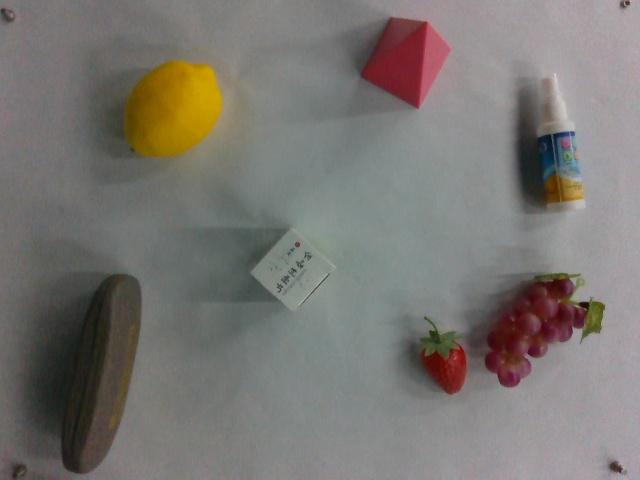carton: (246, 227, 333, 313)
detergent: (528, 72, 585, 219)
glassescase: (59, 276, 144, 473)
grape: (486, 275, 604, 393)
lemon: (124, 58, 223, 165)
pyramid: (354, 14, 455, 113)
strawberry: (417, 315, 467, 395)
